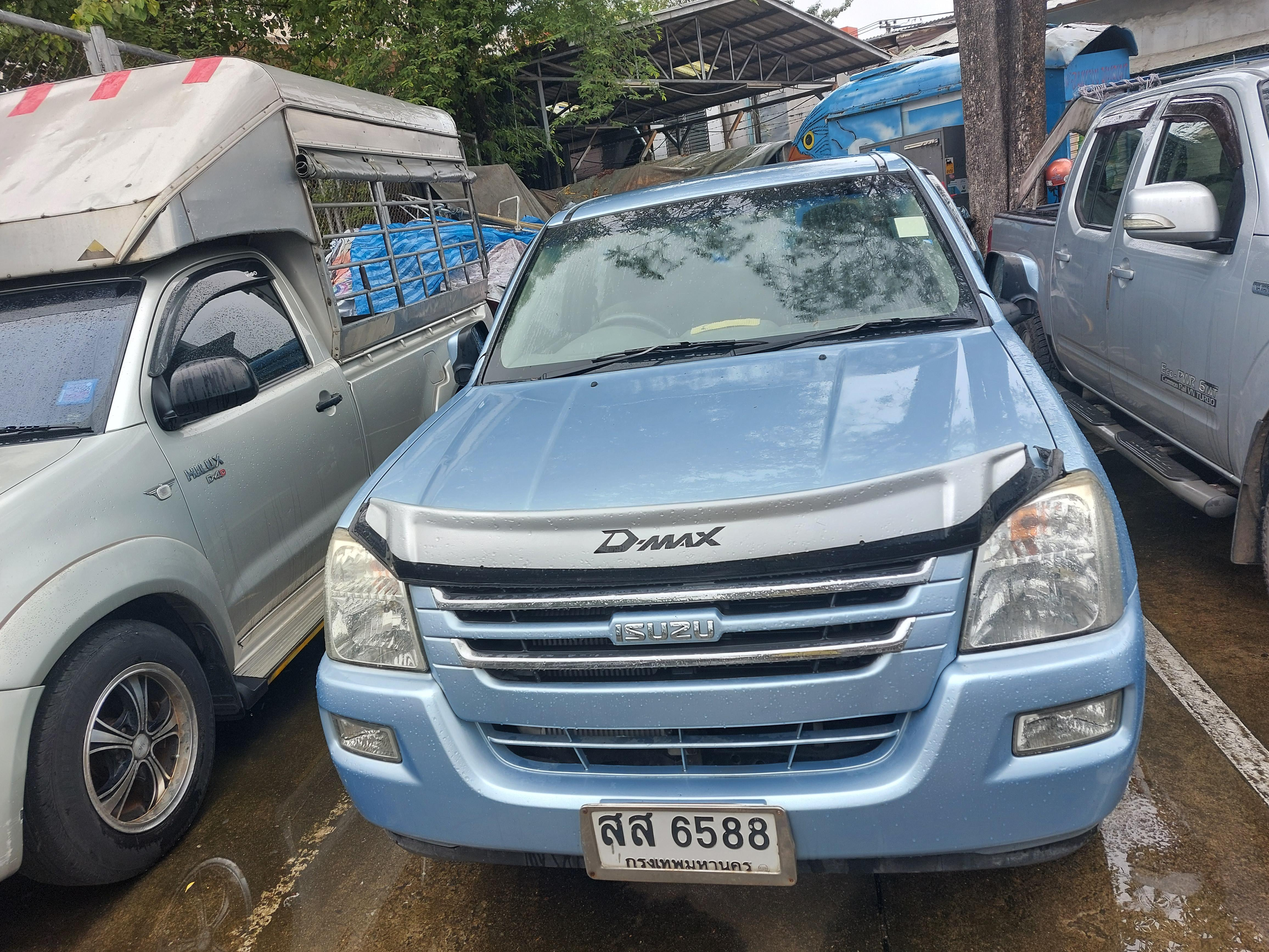license-plate: (576, 803, 800, 888)
